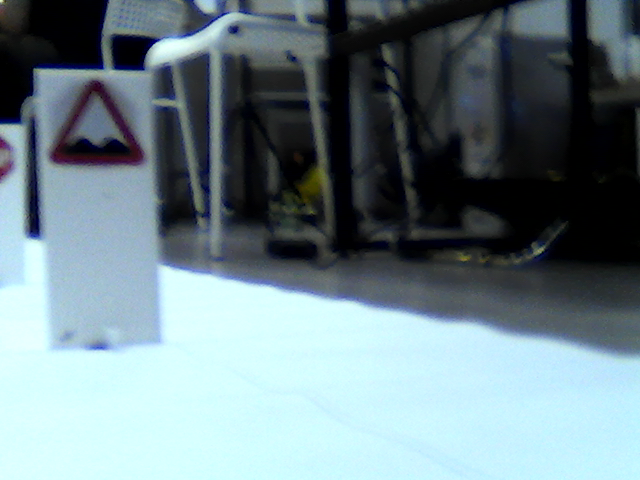Nerov: (47, 80, 146, 165)
